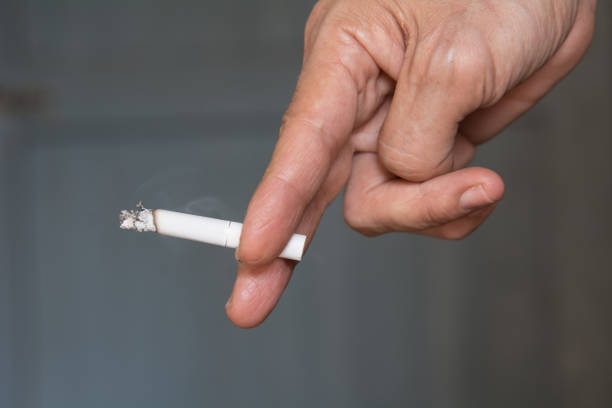cigarette: (121, 205, 306, 261)
